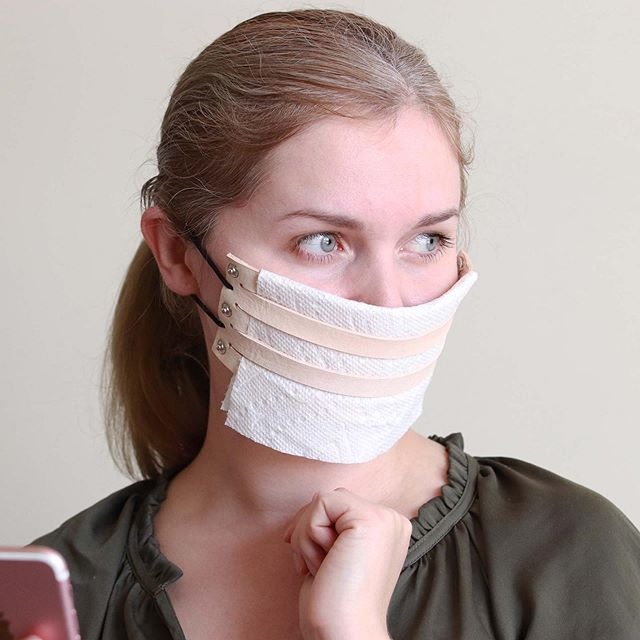homemade: (172, 223, 505, 475)
